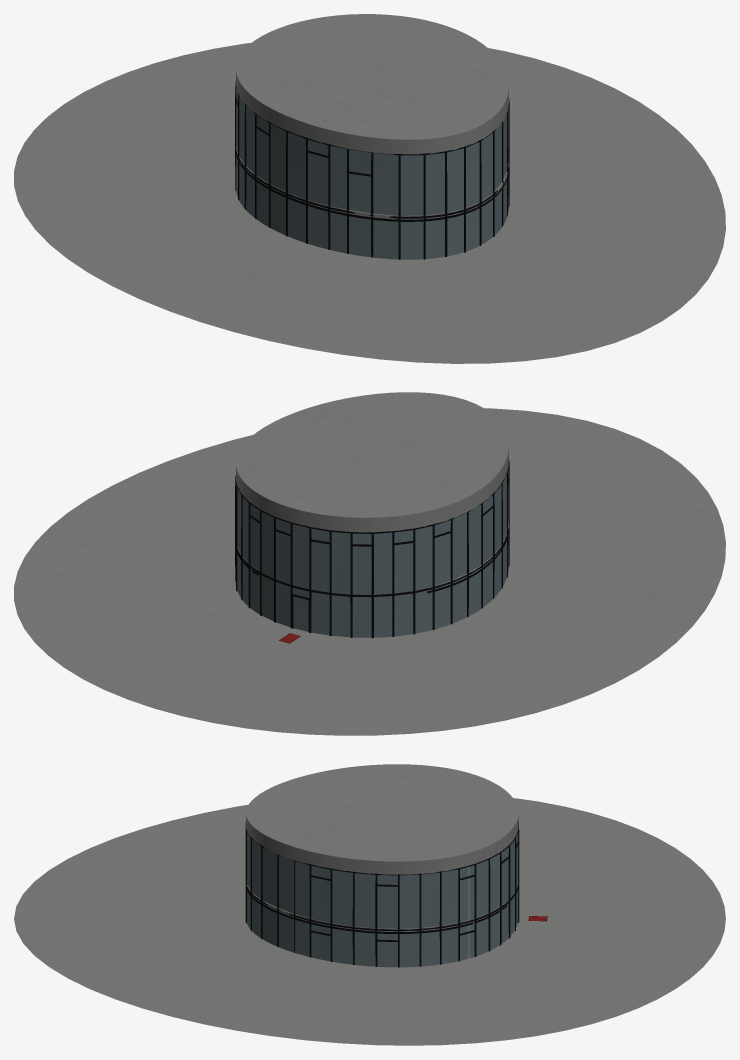
The model's file is OLA-Raimonds-K-13.glb.
3 renders of one model, top to bottom at view 1: azimuth 30°, elevation 25°; view 2: azimuth 150°, elevation 25°; view 3: azimuth 270°, elevation 25°, orthographic. The views are drawn at different scales.
Visible parts, largest first — view 1: Cylinder.020, 1stFloor-ceiling.002, glassExterior.004, wireframe.002, 1stFloor-ceiling.004; view 2: Cylinder.020, 1stFloor-ceiling.002, glassExterior.004, wireframe.002; view 3: Cylinder.020, 1stFloor-ceiling.002, glassExterior.004, wireframe.002, 1stFloor-ceiling.004.
Boxes of the visible parts, left/top/right/bottom form: Cylinder.020: left=14, top=43, right=725, bottom=363; 1stFloor-ceiling.002: left=236, top=14, right=508, bottom=154; glassExterior.004: left=236, top=88, right=508, bottom=259; wireframe.002: left=235, top=81, right=509, bottom=259; 1stFloor-ceiling.004: left=236, top=147, right=508, bottom=221; Cylinder.020: left=14, top=408, right=725, bottom=735; 1stFloor-ceiling.002: left=236, top=392, right=508, bottom=532; glassExterior.004: left=236, top=468, right=508, bottom=637; wireframe.002: left=235, top=459, right=509, bottom=638; Cylinder.020: left=14, top=798, right=725, bottom=1045; 1stFloor-ceiling.002: left=246, top=764, right=518, bottom=874; glassExterior.004: left=247, top=832, right=518, bottom=967; wireframe.002: left=245, top=822, right=519, bottom=967; 1stFloor-ceiling.004: left=246, top=885, right=507, bottom=933.
Size of the model in its own units: 44.39 by 14.82 by 52.54.
Materials: 71 (42 with a texture image).
